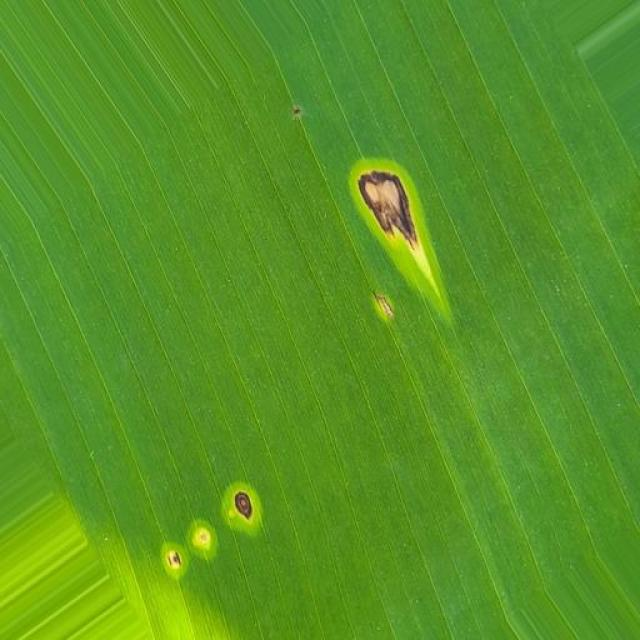Early_rust: (330, 143, 479, 347), (123, 454, 273, 623)
